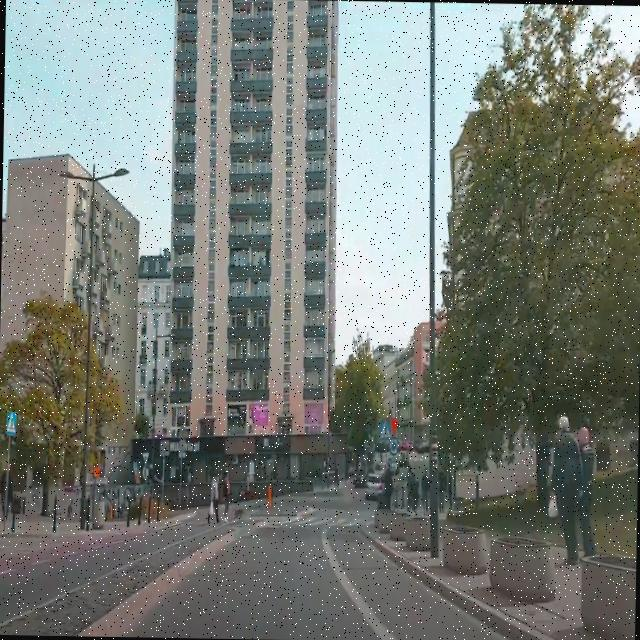Przejscie dla pieszych: (5, 408, 17, 436), (380, 418, 390, 438)
Ustap pierwszenstwa: (388, 418, 398, 437)
